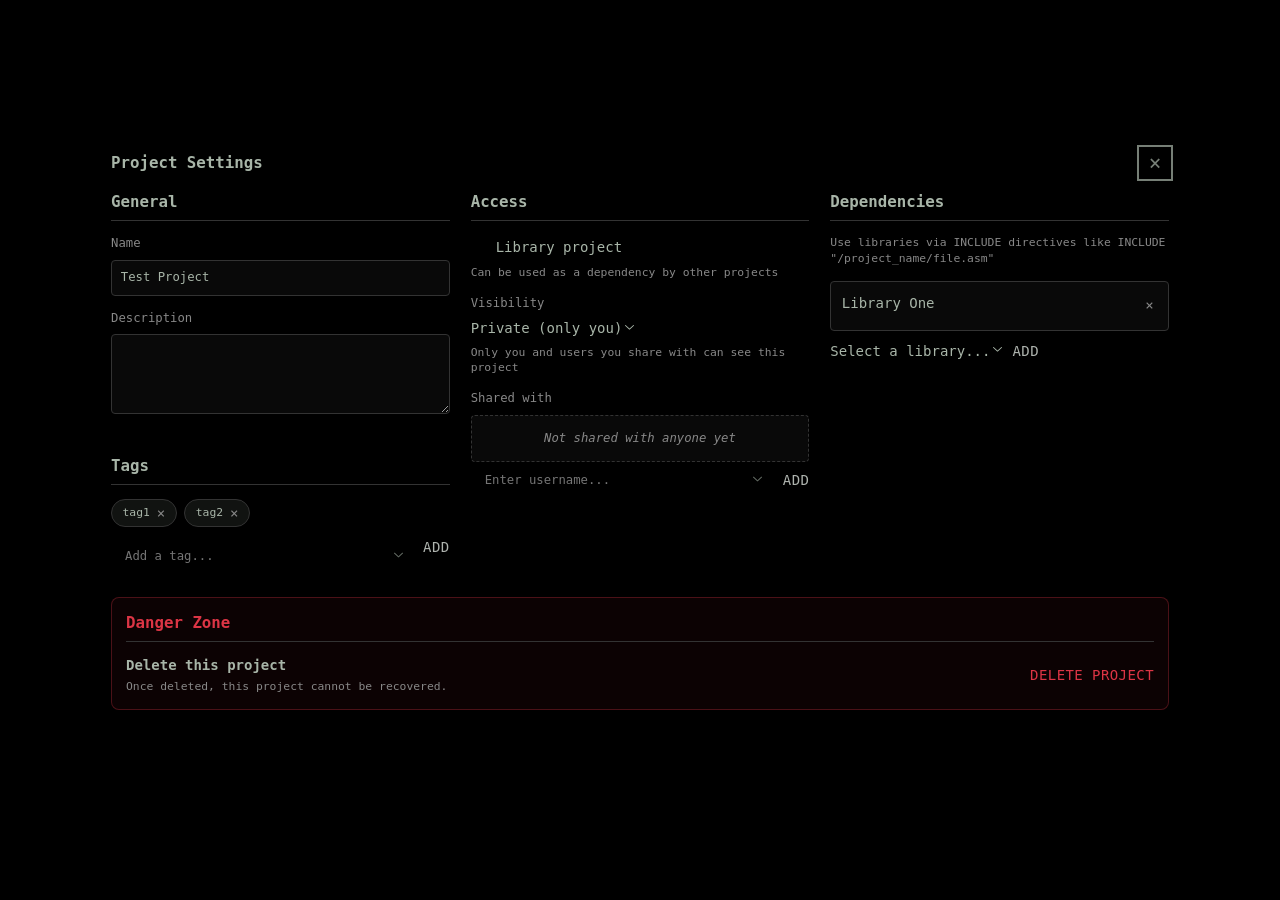
Test: ProjectSettingsModal › tag autocompletion › shows available tags in combobox
The width and height of the screenshot is (1280, 900).
// Type to open dropdown
Type "g" into the field with placeholder "Add a tag..." at [264, 557], box [111,538,416,576]
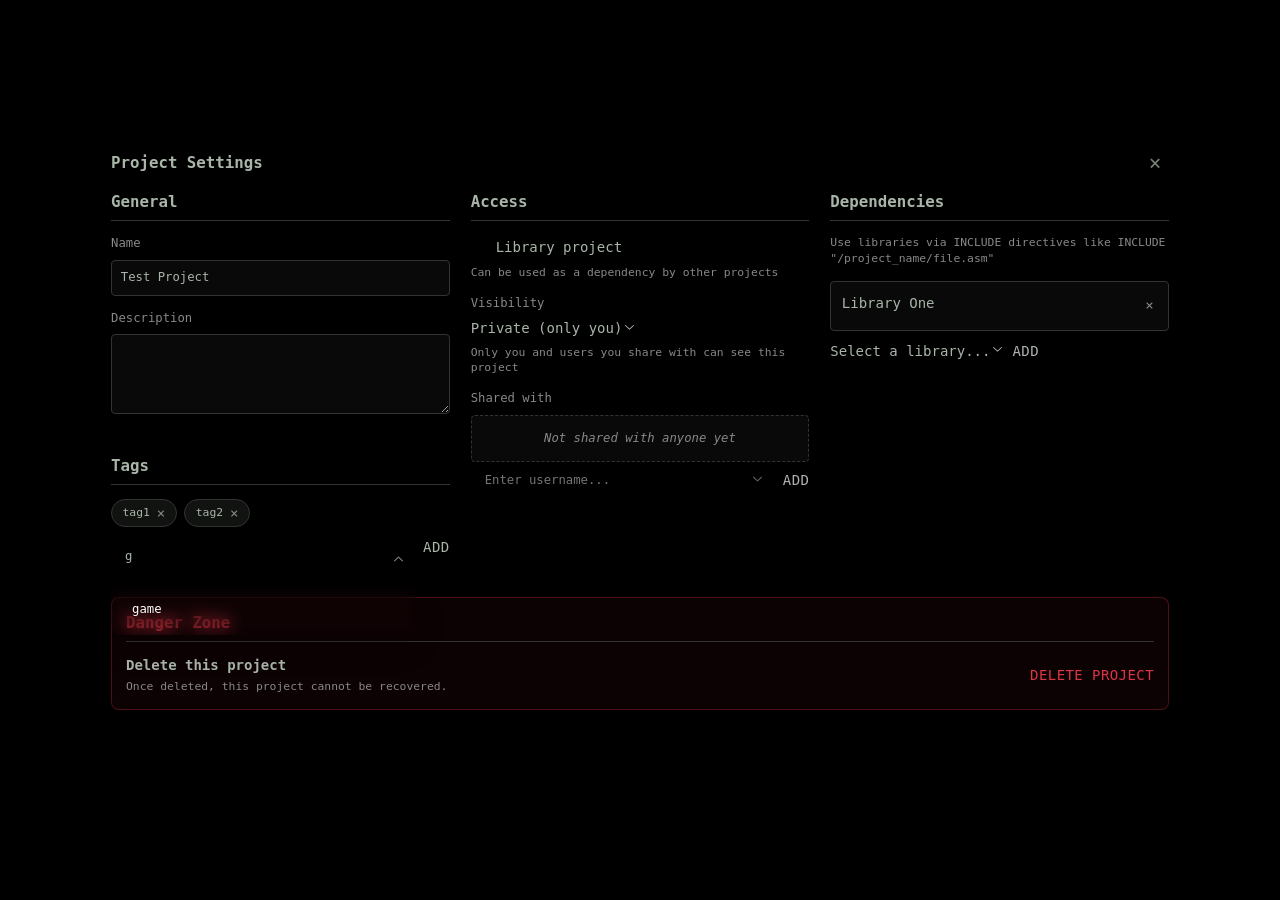
Result: the button "game" is shown at [118,590,409,628]
